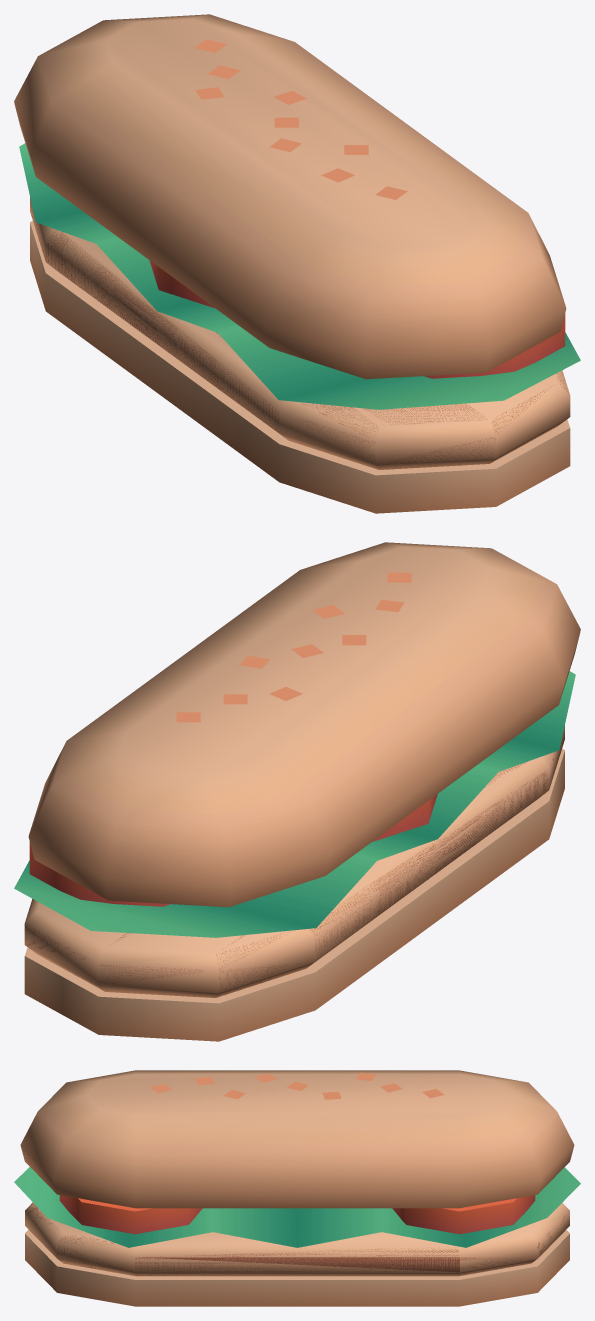
The picture shows the model from 3 angles, top to bottom: view 1: azimuth 30°, elevation 25°; view 2: azimuth 150°, elevation 25°; view 3: azimuth 270°, elevation 25°; orthographic projection. The views are drawn at different scales.
Visible parts, largest first — view 1: bun-bottom; view 2: bun-bottom; view 3: bun-bottom.
Part boxes in pixels (x1,y1,x2,y2): bun-bottom: [14, 14, 580, 513]; bun-bottom: [14, 542, 580, 1041]; bun-bottom: [14, 1070, 580, 1306].
Bounding box in the file's own units: 0.2827 × 0.2225 × 0.6756.
1 material, 1 textured.
